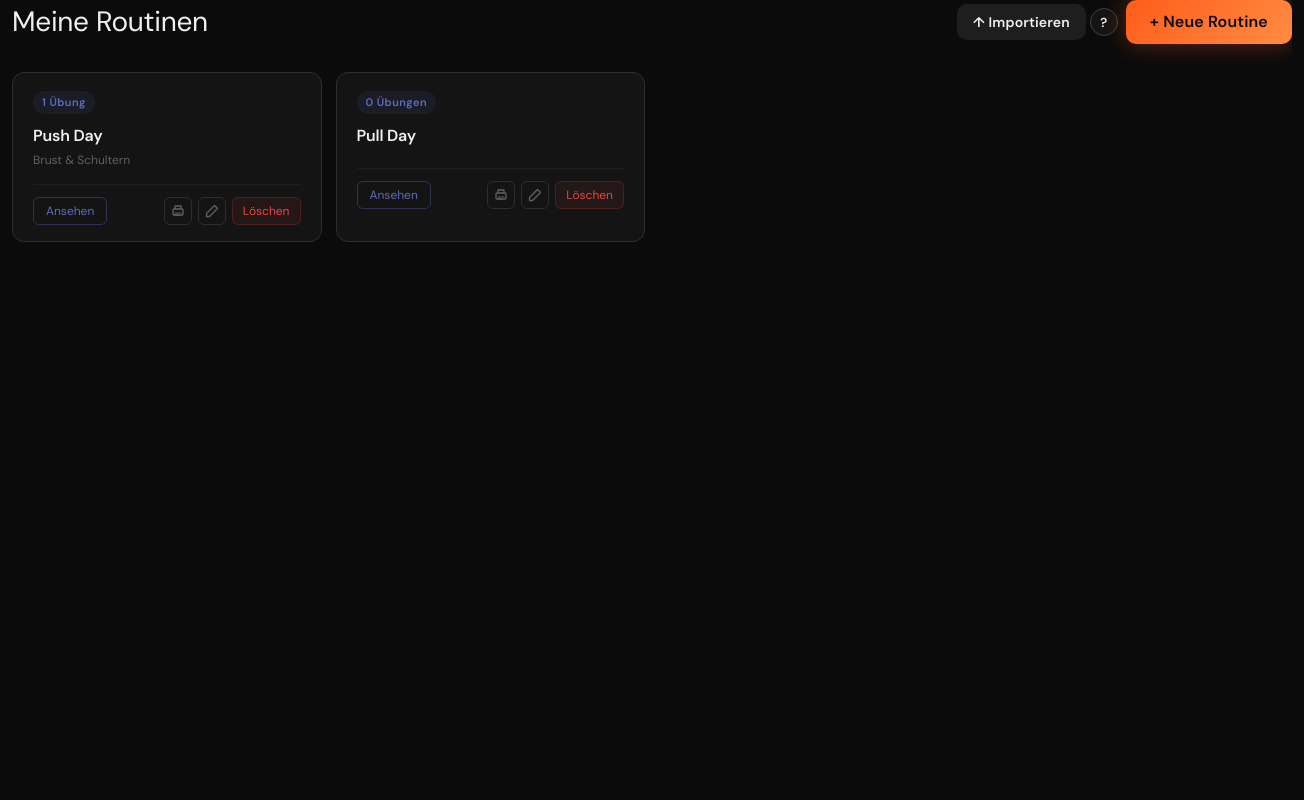
Scenario: RoutineList – Import-Infobox › shows Kopiert! after clicking Kopieren
The image size is (1304, 800).
Click the button named "import-hilfe anzeigen".
click(1104, 22)  # box [1090, 8, 1118, 36]
(page scrolled)
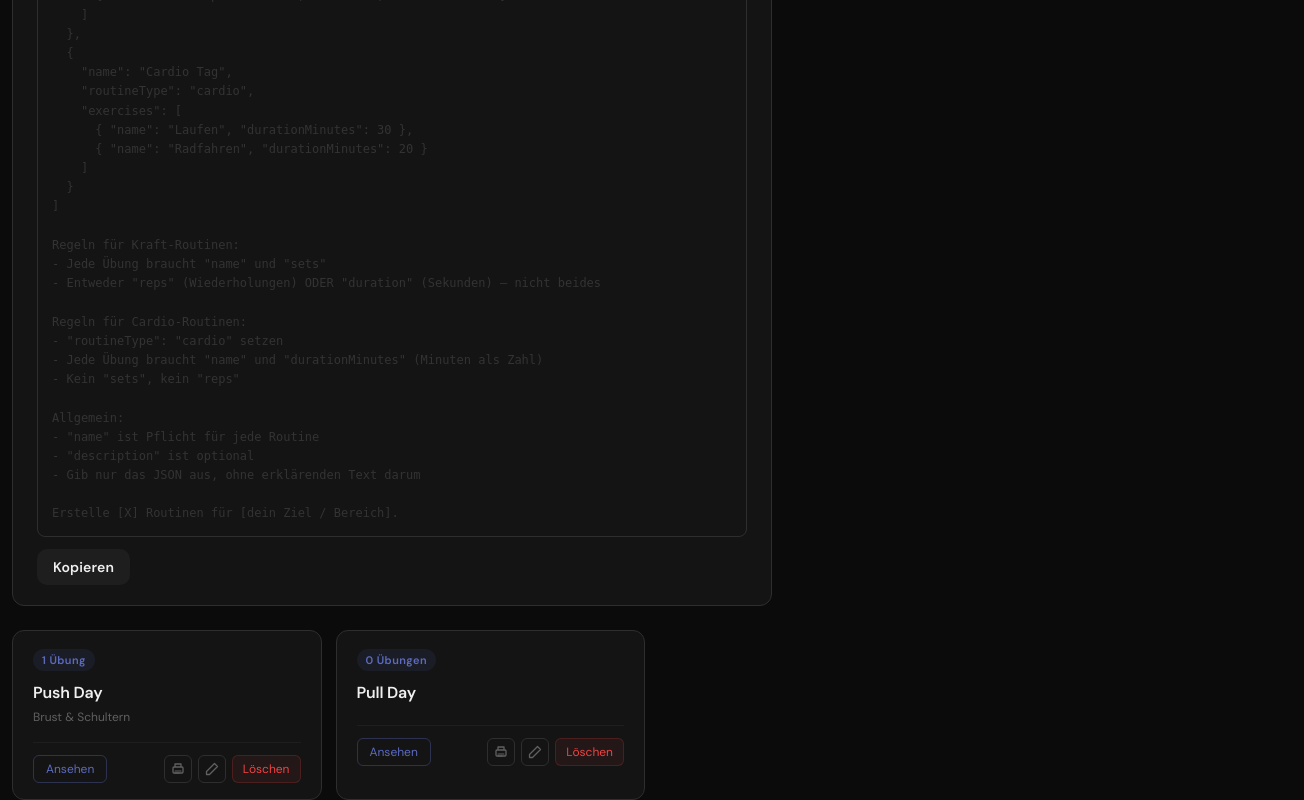
Click the button "Kopieren".
click(84, 567)  # box [37, 549, 130, 585]
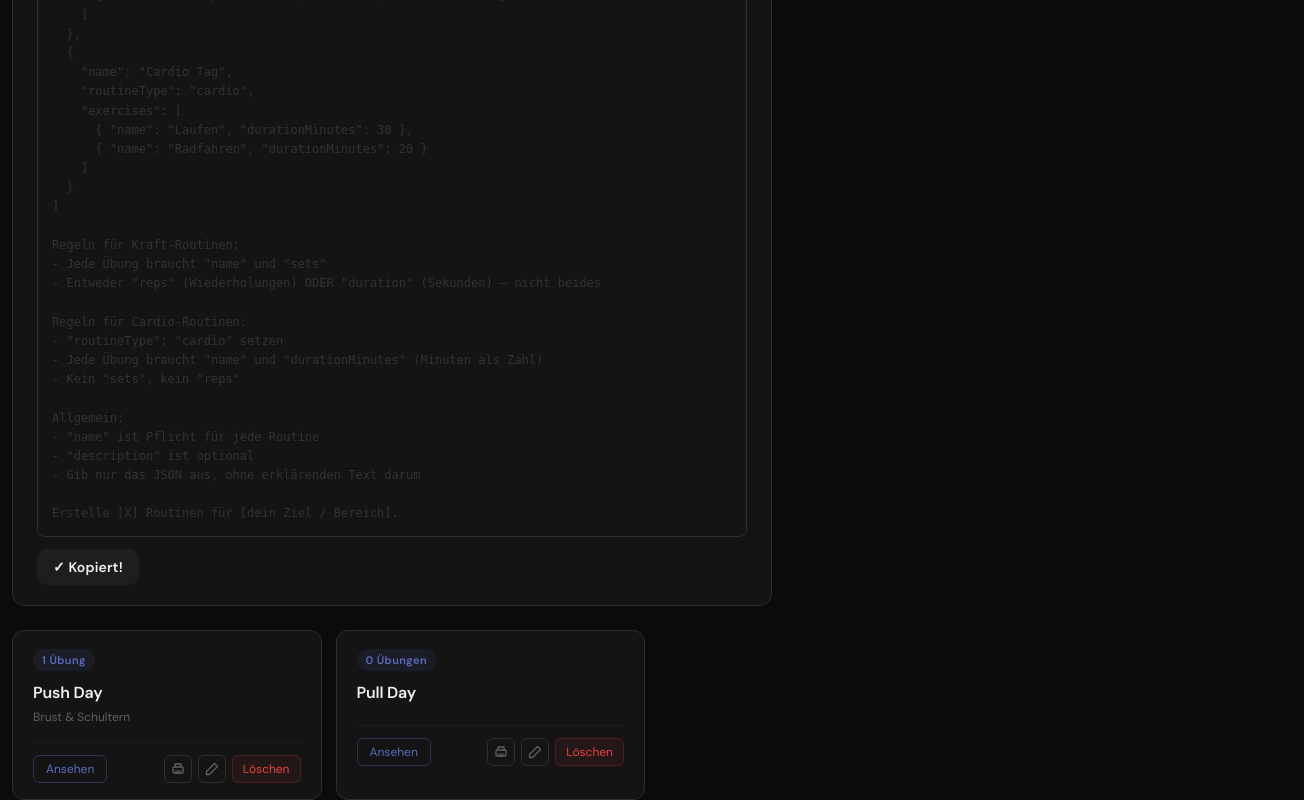
Expected: the button "✓ Kopiert!" is shown, [37, 549, 139, 585]
